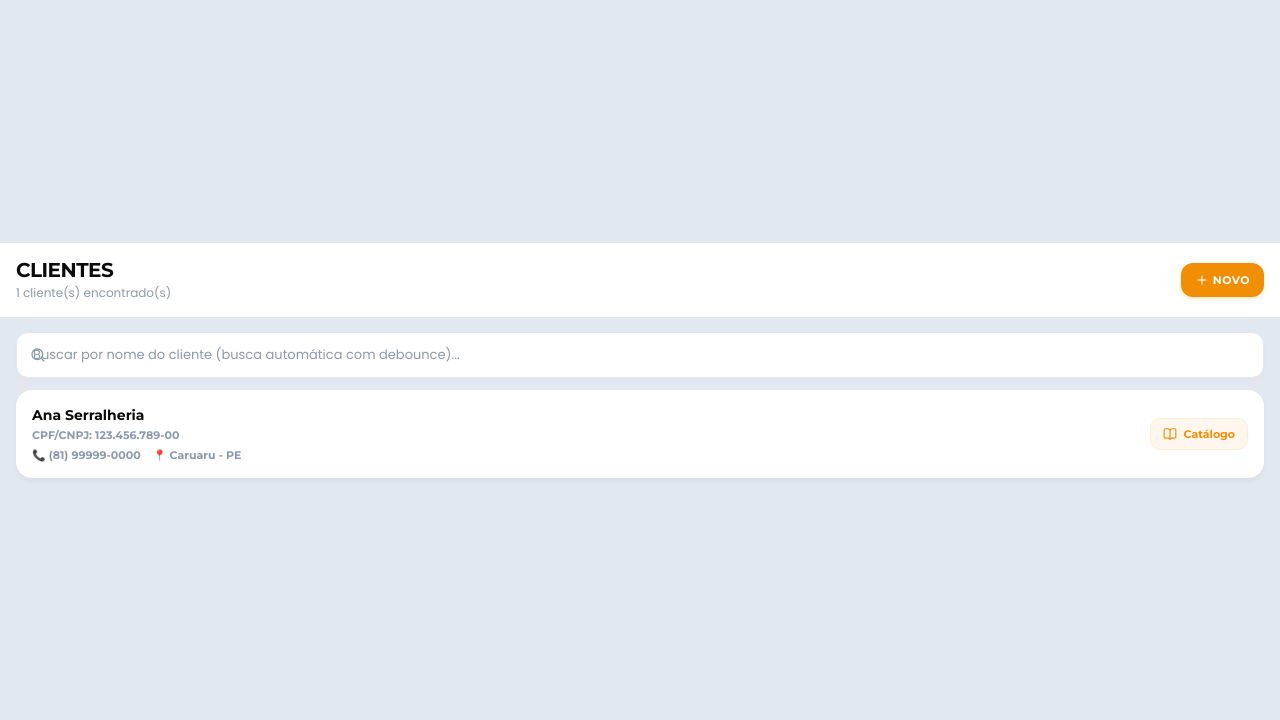
Clientes – cadastro › exibe a mensagem de erro do backend (ex.: CPF duplicado) e mantém o formulário aberto
Step 1. Click the button "NOVO" → (1222, 280), box 1181,262 -> 1264,296
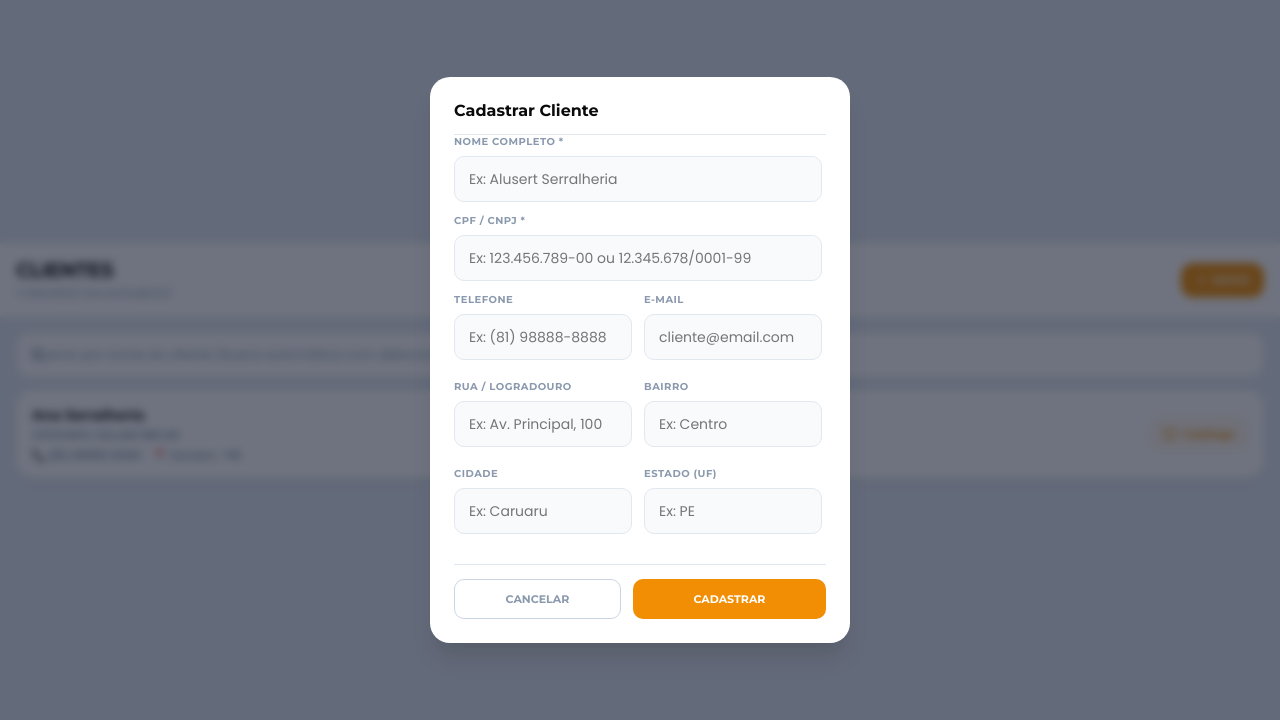
Step 2. Type "Duplicado" into the field labelled "NOME COMPLETO *" → (638, 179), box 454,156 -> 822,202
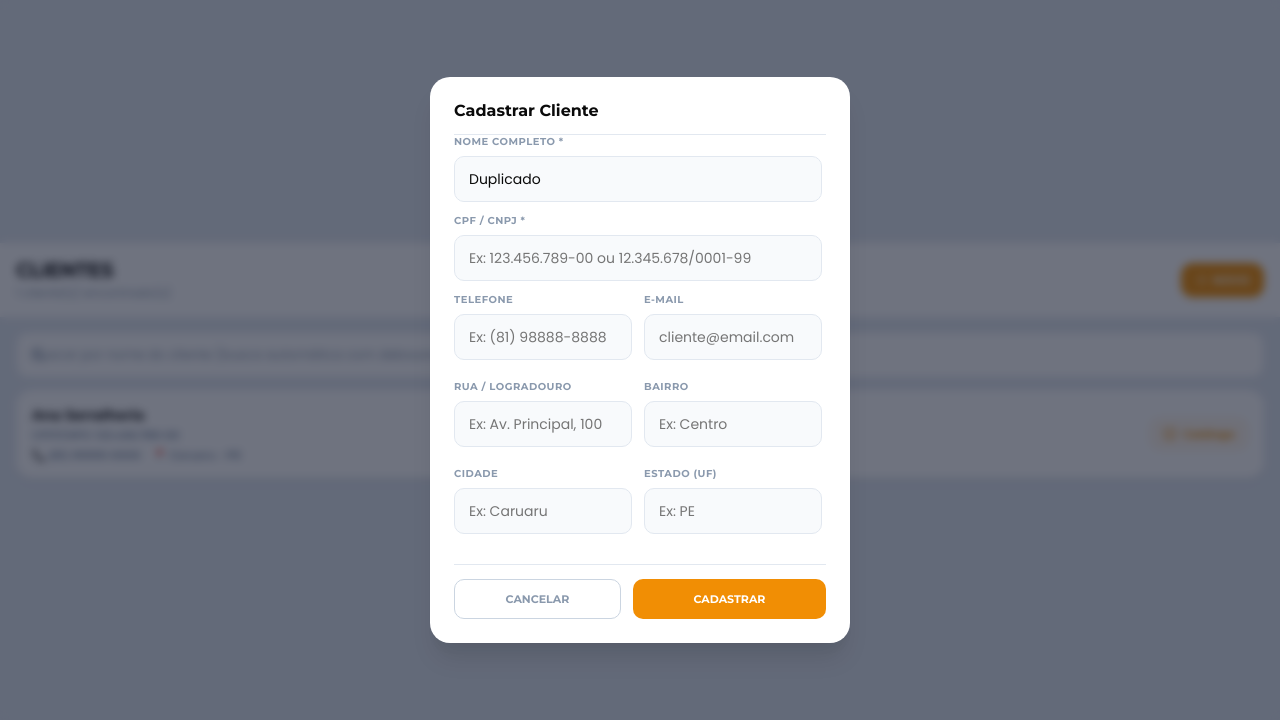
Step 3. Type "123.456.789-00" into the field labelled "CPF / CNPJ *" → (638, 258), box 454,235 -> 822,281
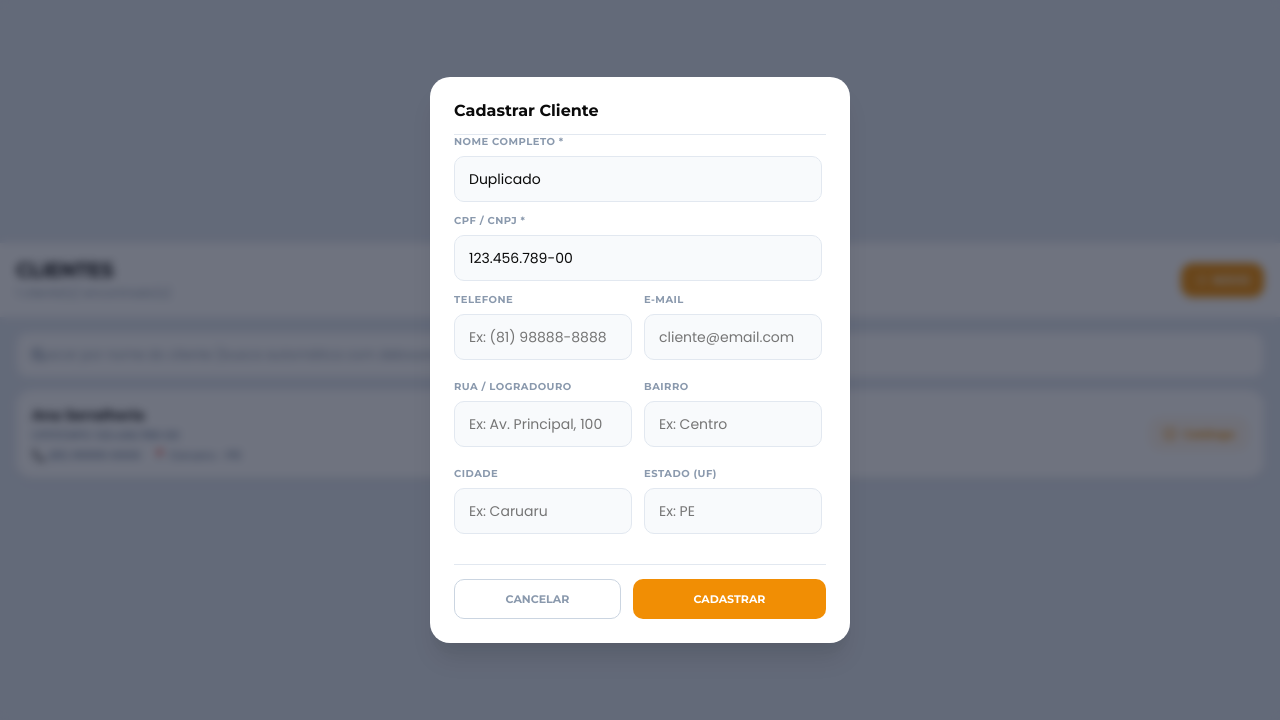
Step 4. Click the button "CADASTRAR" → (729, 599), box 633,579 -> 826,619
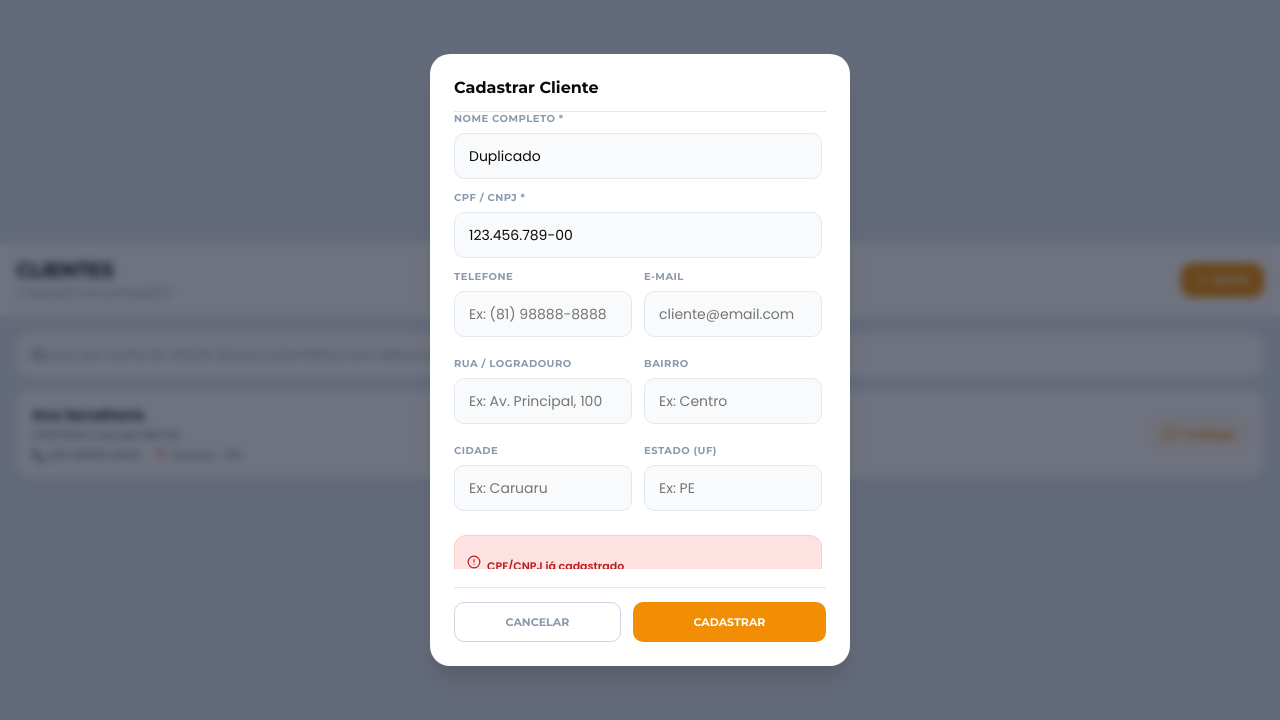
Now the button "CADASTRAR" is enabled, box 633,602 -> 826,642
Now the text "CPF/CNPJ já cadastrado" is shown, box 487,558 -> 624,569
